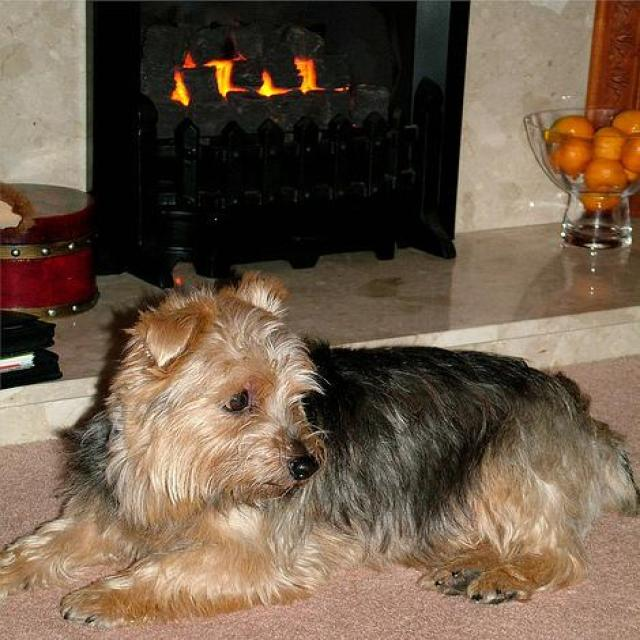dogs: (51, 283, 628, 610)
